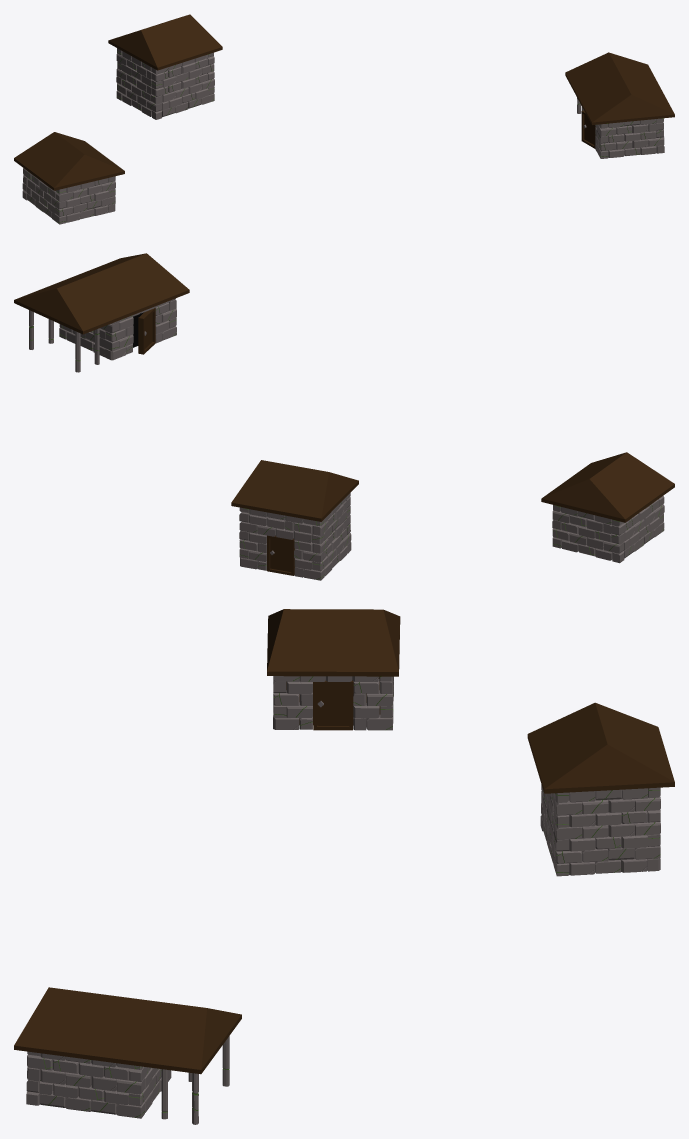
The model's file is casine.fbx.
The picture shows the model from 3 angles, top to bottom: view 1: azimuth 30°, elevation 25°; view 2: azimuth 150°, elevation 25°; view 3: azimuth 270°, elevation 25°; orthographic projection. The views are drawn at different scales.
Visible parts, largest first — view 1: casine; view 2: casine; view 3: casine.
Part boxes in pixels (<box>): casine: <box>14,14,674,224</box>; casine: <box>14,253,674,580</box>; casine: <box>14,609,674,1124</box>.
Size of the model in its own units: 3257 by 429 by 2012.
